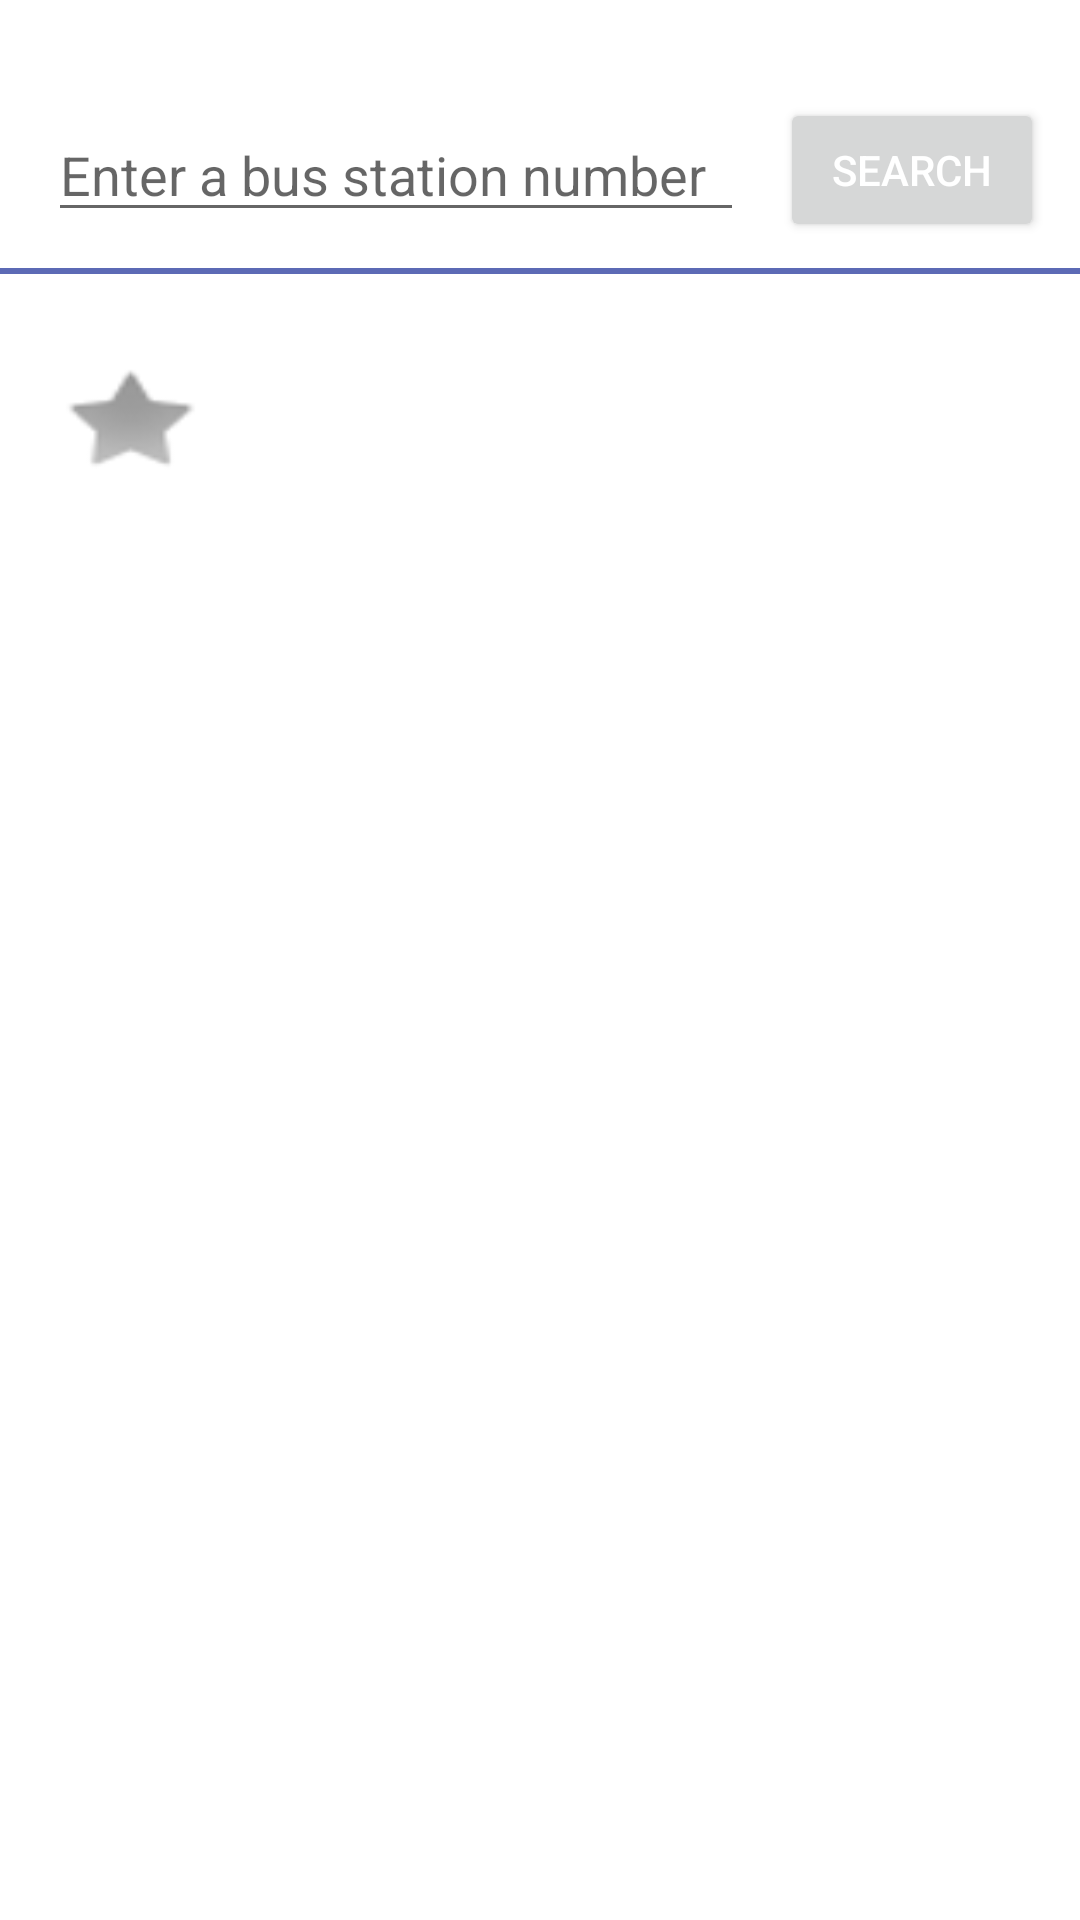

Screen size 1080px×1920px. Icon name, then its box in pixels as box=[x1, y1, x2, y2]:
star off: box=[70, 371, 192, 464]
